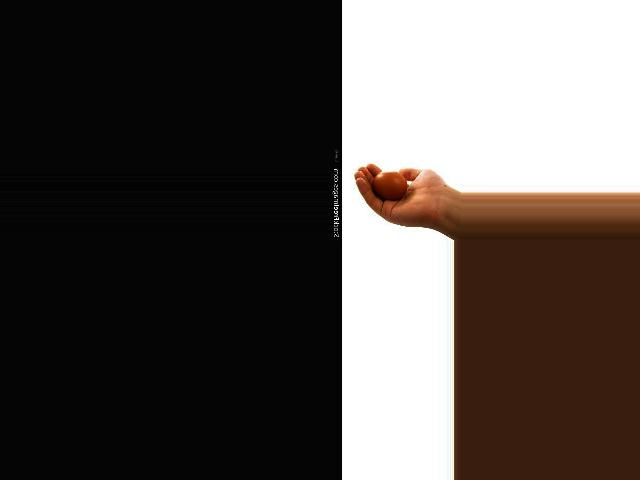egg: (370, 171, 407, 199)
